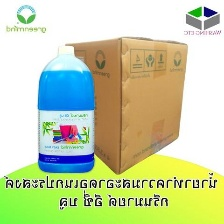book: (61, 34, 192, 178)
cleaning_solution: (33, 44, 97, 174)
